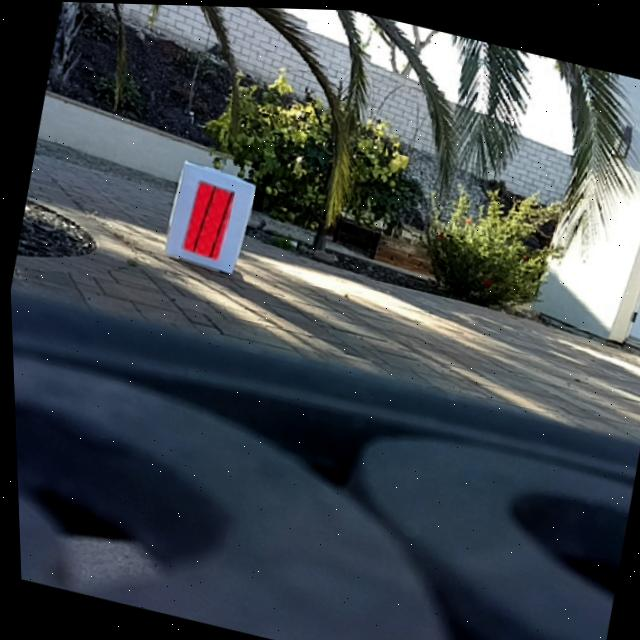led: (179, 176, 237, 261)
